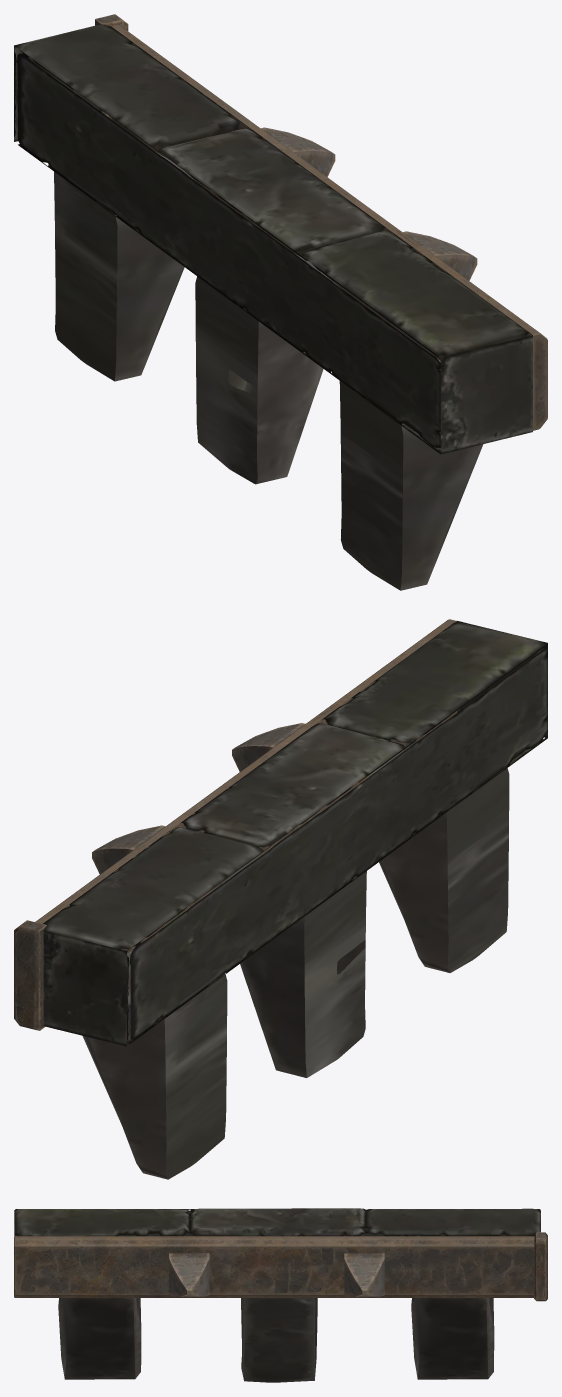
The picture shows the model from 3 angles, top to bottom: view 1: azimuth 30°, elevation 25°; view 2: azimuth 150°, elevation 25°; view 3: azimuth 270°, elevation 25°; orthographic projection. The views are drawn at different scales.
Parts seen in each view (by area): view 1: SM_Dowdun_Wall_Trim_4x1_01_LOD0; view 2: SM_Dowdun_Wall_Trim_4x1_01_LOD0; view 3: SM_Dowdun_Wall_Trim_4x1_01_LOD0.
Part boxes in pixels (left/top/right/bottom): SM_Dowdun_Wall_Trim_4x1_01_LOD0: left=14, top=14, right=547, bottom=590; SM_Dowdun_Wall_Trim_4x1_01_LOD0: left=14, top=619, right=547, bottom=1179; SM_Dowdun_Wall_Trim_4x1_01_LOD0: left=14, top=1208, right=547, bottom=1382.
Bounding box in the file's own units: 0.9556 × 1.42 × 4.05.
3 materials, 3 textured.
